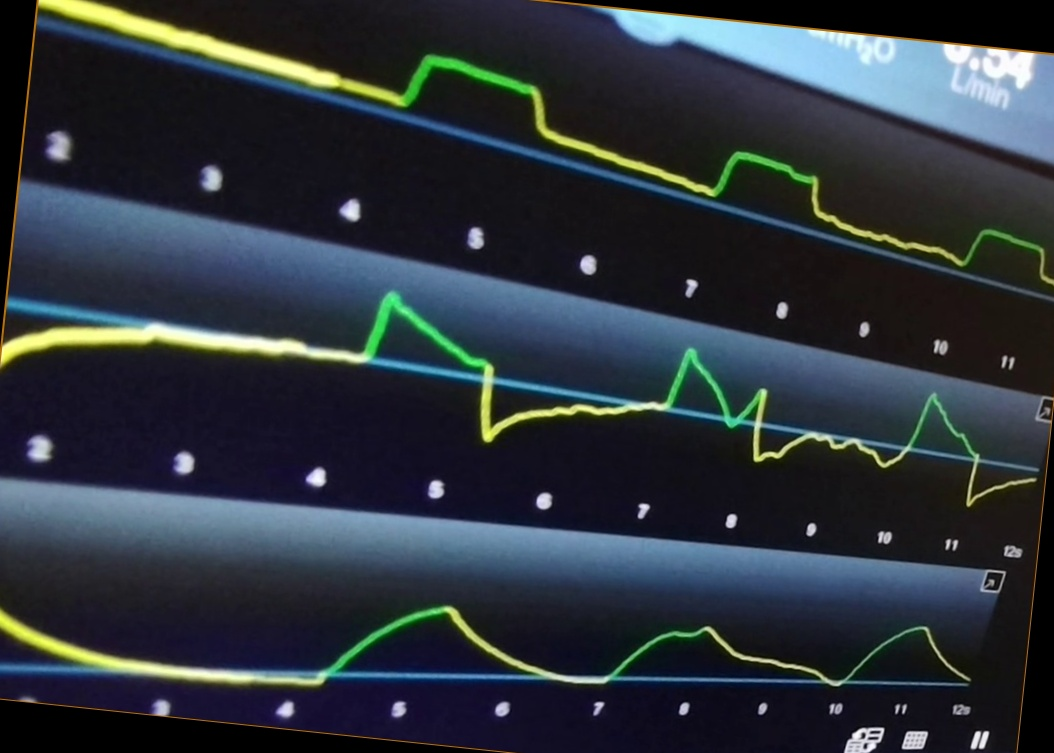Double_Triggering Flow: (10, 279, 1037, 506)
Double_Triggering Volume: (2, 537, 970, 695)
